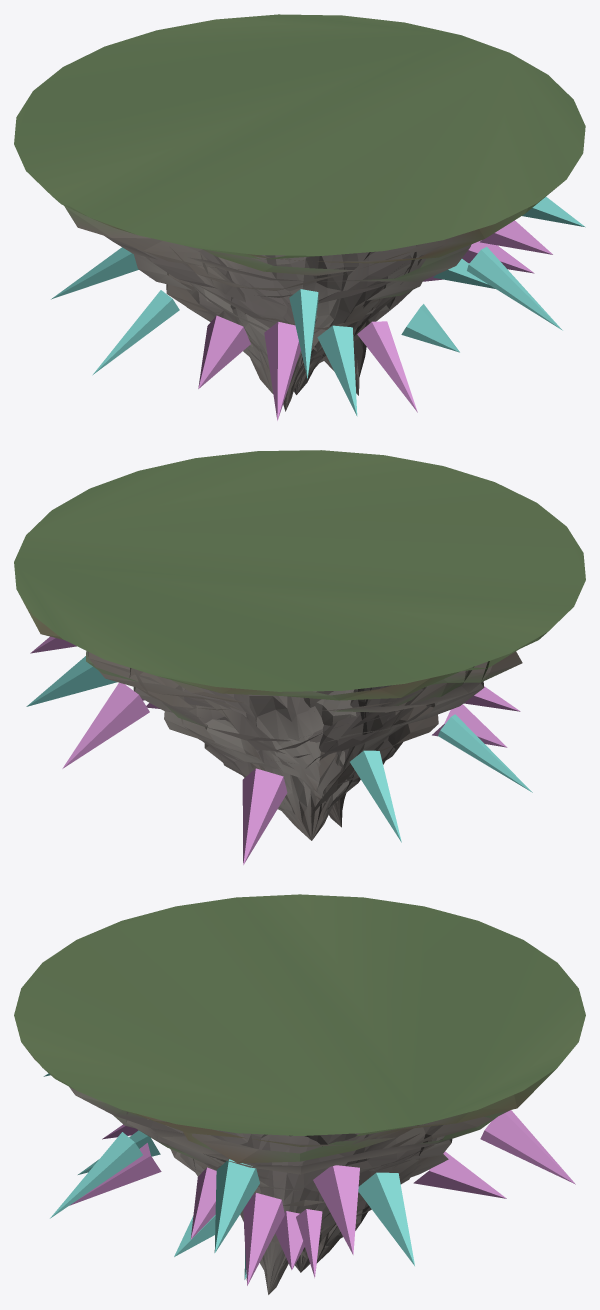
File: rocks-floresta.glb
3 views of the same model, one above another, from view 1: azimuth 30°, elevation 25°; view 2: azimuth 150°, elevation 25°; view 3: azimuth 270°, elevation 25° (orthographic).
Visible parts, largest first — view 1: rock_a, rock_d, rock_b_glow, rock_c, rock_c_glow, rock_b, rock_d_glow, rock_a_glow; view 2: rock_a, rock_d, rock_c, rock_a_glow, rock_d_glow, rock_b, rock_c_glow; view 3: rock_a, rock_a_glow, rock_c, rock_b, rock_c_glow, rock_b_glow, rock_d, rock_d_glow.
Part boxes in pixels (x1,y1,x2,y2): rock_a: [14, 14, 585, 394]; rock_d: [64, 206, 442, 411]; rock_b_glow: [289, 197, 585, 416]; rock_c: [52, 184, 560, 393]; rock_c_glow: [198, 220, 552, 412]; rock_b: [170, 246, 424, 395]; rock_d_glow: [51, 247, 179, 375]; rock_a_glow: [149, 275, 442, 420]; rock_a: [14, 450, 585, 815]; rock_d: [88, 633, 545, 827]; rock_c: [17, 590, 547, 840]; rock_a_glow: [30, 636, 520, 864]; rock_d_glow: [26, 656, 532, 842]; rock_b: [129, 666, 474, 767]; rock_c_glow: [141, 698, 507, 747]; rock_a: [14, 894, 585, 1272]; rock_a_glow: [102, 1110, 575, 1269]; rock_c: [23, 1045, 556, 1263]; rock_b: [147, 1119, 422, 1294]; rock_c_glow: [69, 1143, 322, 1285]; rock_b_glow: [43, 1073, 259, 1279]; rock_d: [203, 1110, 509, 1173]; rock_d_glow: [358, 1172, 414, 1265].
Bounding box in the file's own units: 2 × 1 × 2.
